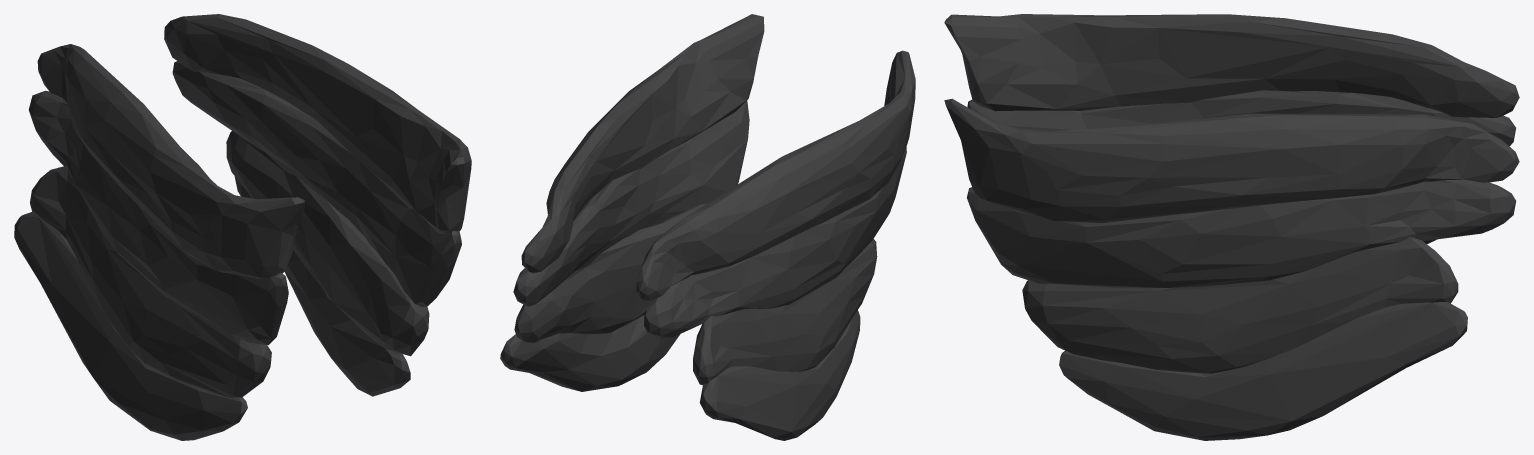
The model's file is m_serratus_ventralis_cervicis.glb.
The picture shows the model from 3 angles, left to right: view 1: azimuth 30°, elevation 25°; view 2: azimuth 150°, elevation 25°; view 3: azimuth 270°, elevation 25°; orthographic projection. The views are drawn at different scales.
Visible parts, largest first — view 1: m_serratus_ventralis_cervicis; view 2: m_serratus_ventralis_cervicis; view 3: m_serratus_ventralis_cervicis.
Boxes of the visible parts, x1,y1,x2,y2 form: m_serratus_ventralis_cervicis: (14,14,471,440); m_serratus_ventralis_cervicis: (500,14,915,440); m_serratus_ventralis_cervicis: (944,14,1519,440).
Size of the model in its own units: 0.00306 by 0.00365 by 0.00576.
1 material, 1 textured.
